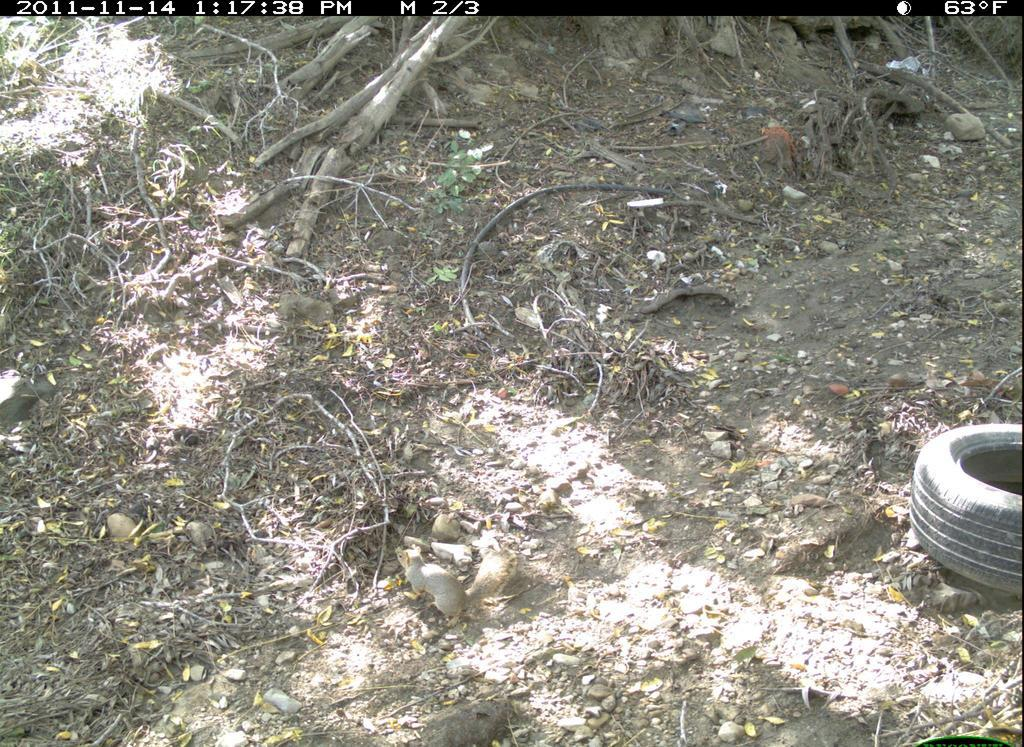squirrel: (385, 520, 534, 639)
